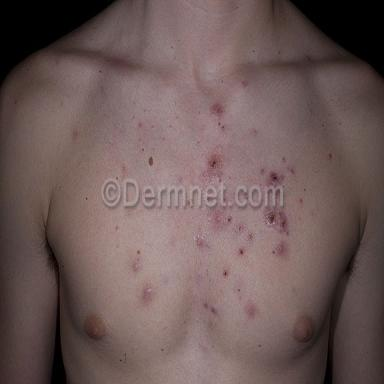acne: (202, 154, 222, 186), (264, 207, 287, 233), (245, 300, 257, 318), (210, 103, 223, 119), (269, 172, 283, 186), (143, 285, 155, 301), (193, 233, 206, 246), (275, 241, 284, 254), (213, 211, 221, 224), (133, 258, 141, 271), (233, 226, 244, 233), (224, 215, 232, 224), (211, 306, 217, 315), (247, 233, 253, 241), (252, 129, 258, 136), (242, 80, 248, 87), (223, 270, 228, 278), (239, 249, 244, 255), (204, 303, 208, 309), (290, 168, 294, 174), (282, 157, 286, 163), (300, 198, 302, 204), (221, 125, 224, 129)
